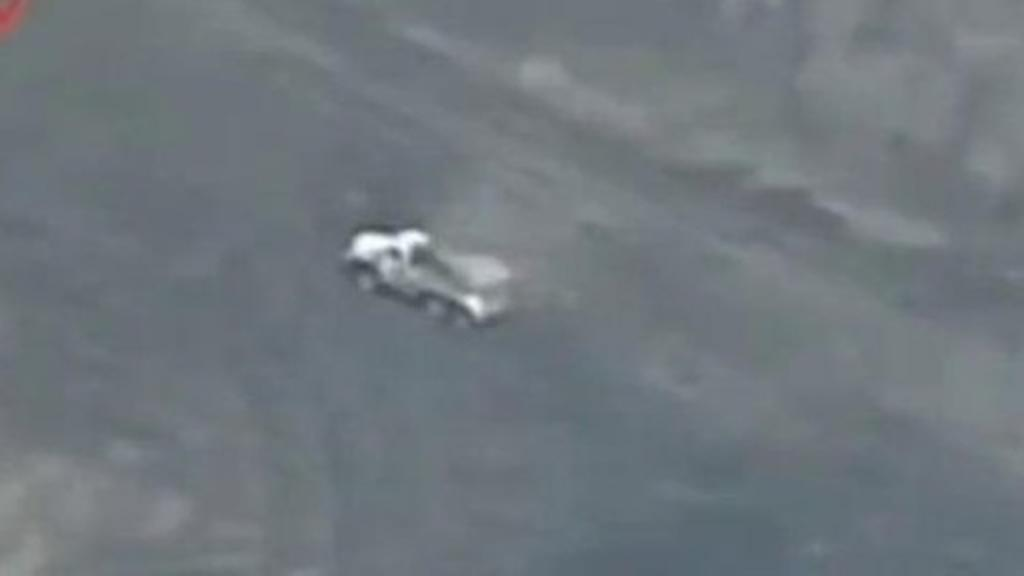MLRS: (340, 216, 512, 332)
